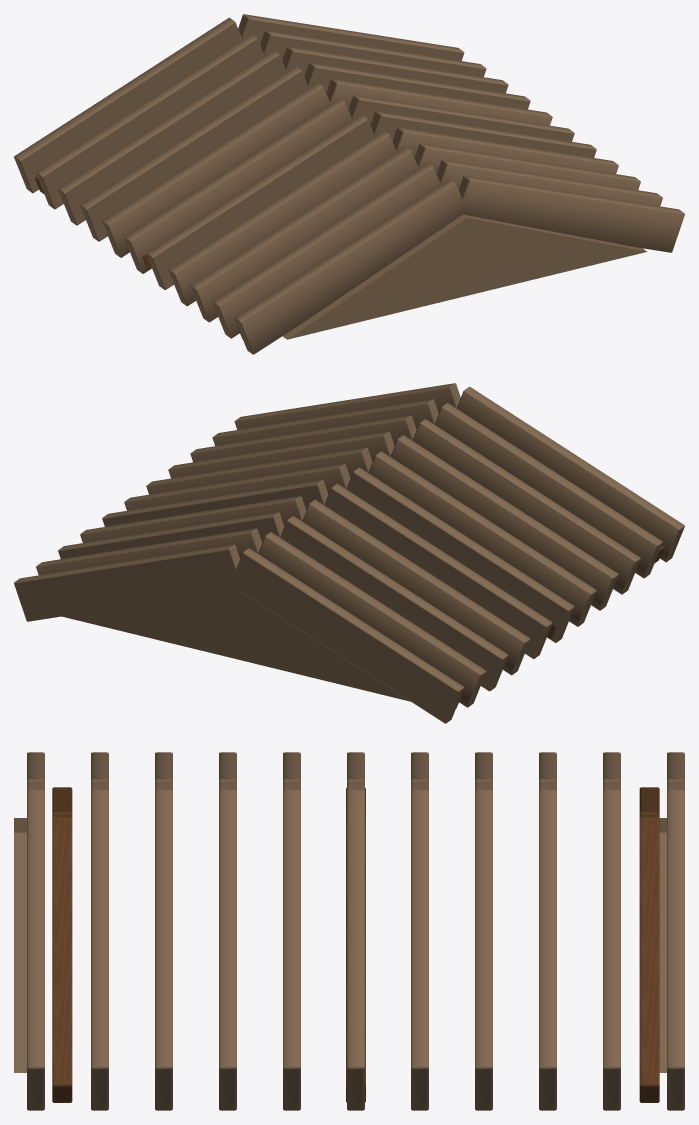
File: retreat_global_a2_roof.glb
The picture shows the model from 3 angles, top to bottom: view 1: azimuth 30°, elevation 25°; view 2: azimuth 150°, elevation 25°; view 3: azimuth 270°, elevation 25°; orthographic projection. The views are drawn at different scales.
Parts seen in each view (by area): view 1: CANON_Gabled_Roof_-1, CANON_Gabled_Roof_1, CANON_Gable_3.1; view 2: CANON_Gabled_Roof_-1, CANON_Gabled_Roof_1, CANON_Gable_-0.1; view 3: CANON_Gabled_Roof_1, CANON_Gabled_Roof_-1, CANON_Gable_3.1, CANON_Gable_-0.1.
Part boxes in pixels (<box>): CANON_Gabled_Roof_-1: <box>14,17,466,354</box>; CANON_Gabled_Roof_1: <box>238,14,684,252</box>; CANON_Gable_3.1: <box>282,214,647,339</box>; CANON_Gabled_Roof_-1: <box>231,386,684,723</box>; CANON_Gabled_Roof_1: <box>14,383,460,621</box>; CANON_Gable_-0.1: <box>62,589,410,701</box>; CANON_Gabled_Roof_1: <box>27,789,684,1110</box>; CANON_Gabled_Roof_-1: <box>27,752,684,817</box>; CANON_Gable_3.1: <box>14,818,26,1072</box>; CANON_Gable_-0.1: <box>659,818,666,1072</box>.
Size of the model in its own units: 3.71 by 0.9737 by 3.34.
Materials: 2 (1 with a texture image).
